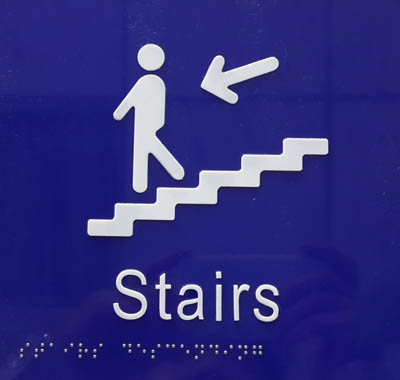Braille: (191, 342, 206, 362), (178, 342, 192, 362), (236, 341, 249, 362), (135, 342, 147, 361), (150, 342, 162, 361), (165, 342, 177, 361), (208, 342, 220, 361), (253, 343, 265, 362), (223, 342, 234, 362), (48, 341, 59, 360), (122, 341, 133, 360), (34, 341, 44, 360), (64, 342, 75, 359), (19, 341, 29, 359), (78, 342, 88, 360), (93, 342, 102, 361)
